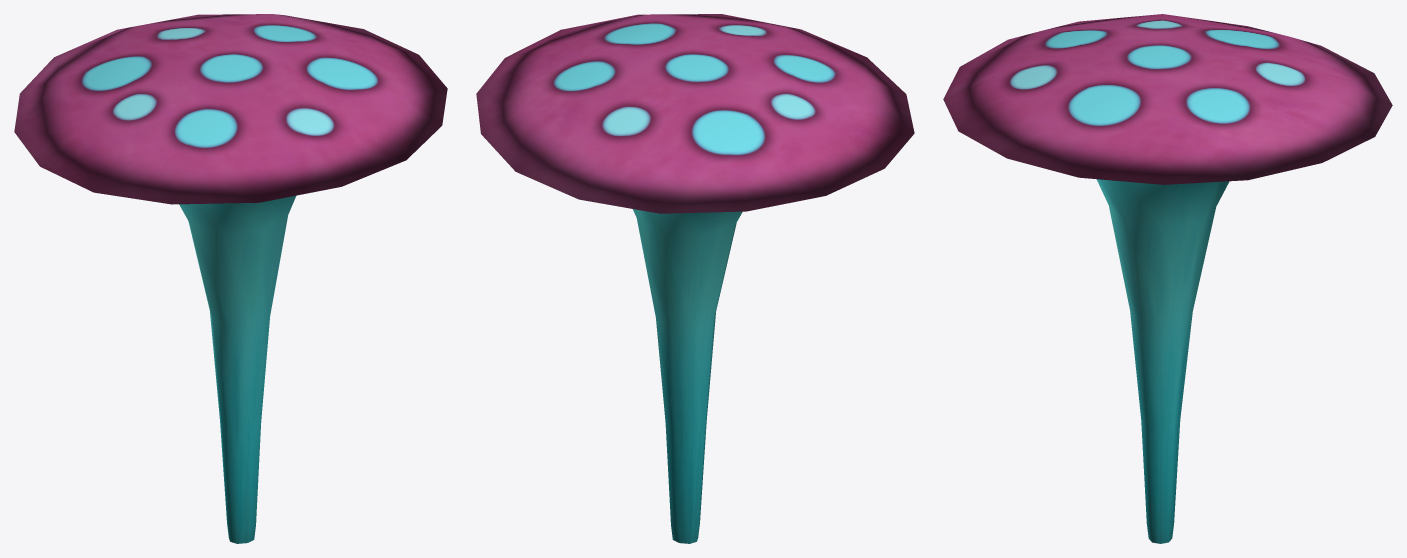
File: Mushroom_Straight3_Pink.fbx
3 renders of one model, left to right at view 1: azimuth 30°, elevation 25°; view 2: azimuth 150°, elevation 25°; view 3: azimuth 270°, elevation 25°, orthographic.
Visible parts, largest first — view 1: Mesh; view 2: Mesh; view 3: Mesh.
Boxes of the visible parts, x1,y1,x2,y2 form: Mesh: (14,14,447,543); Mesh: (476,14,914,543); Mesh: (943,14,1392,543).
Bounding box in the file's own units: 91.07 × 109 × 92.93.
